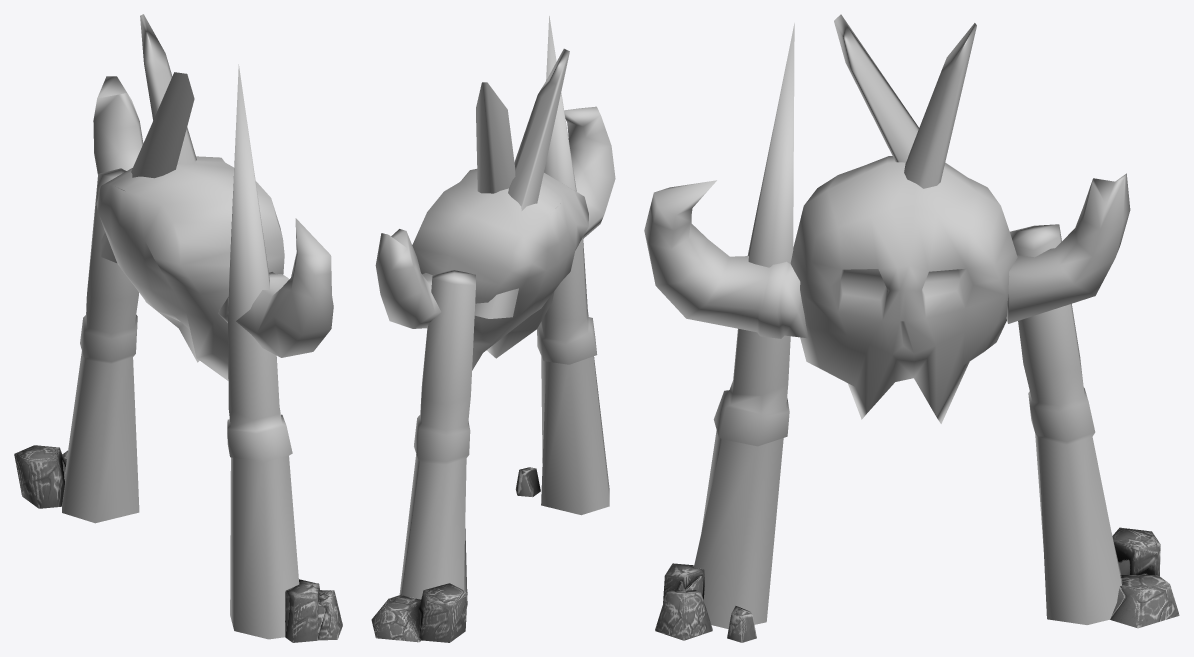
Rendered from gate2.fbx.
3 views of the same model, side by side, from view 1: azimuth 30°, elevation 25°; view 2: azimuth 150°, elevation 25°; view 3: azimuth 270°, elevation 25° (orthographic). The views are drawn at different scales.
Parts seen in each view (by area): view 1: gate2; view 2: gate2; view 3: gate2.
Part boxes in pixels (bbox=[...]): gate2: bbox=[14, 14, 342, 642]; gate2: bbox=[371, 16, 615, 642]; gate2: bbox=[644, 14, 1179, 642].
Size of the model in its own units: 16.29 by 60.68 by 49.9.
